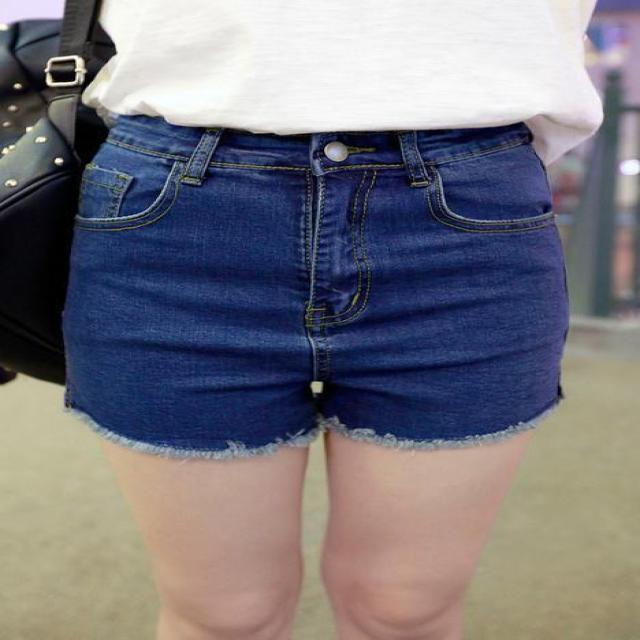short sleeve top: (104, 1, 598, 136)
shorts: (68, 108, 561, 435)
